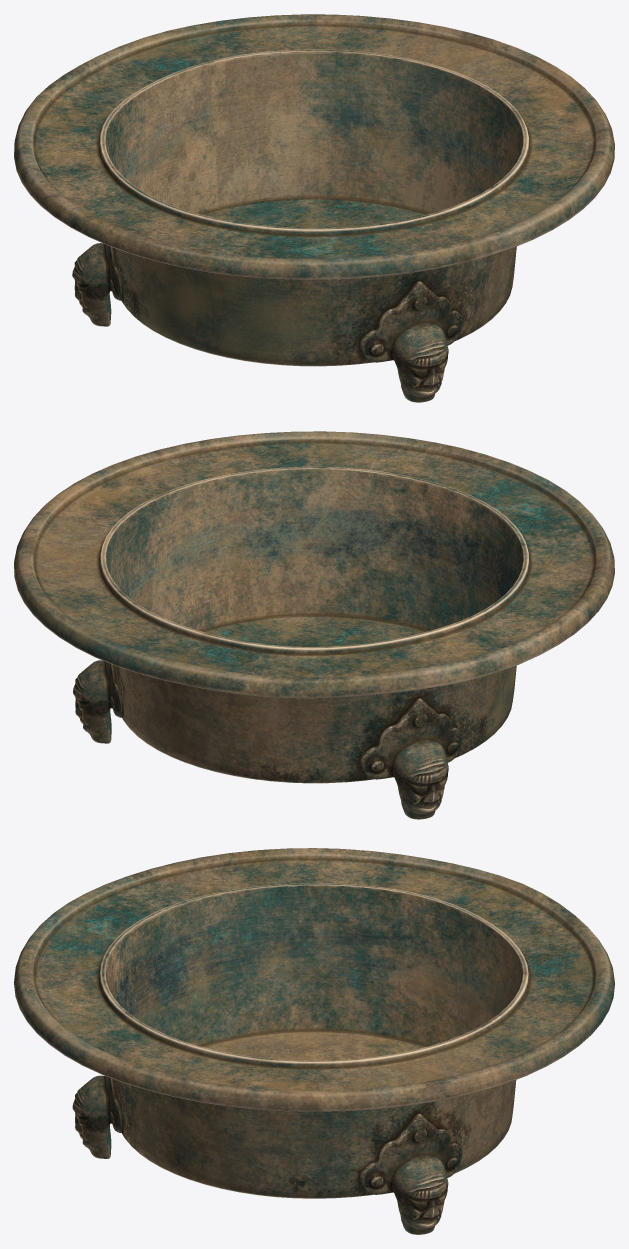
File: SM_Brazier.fbx
The picture shows the model from 3 angles, top to bottom: view 1: azimuth 30°, elevation 25°; view 2: azimuth 150°, elevation 25°; view 3: azimuth 270°, elevation 25°; orthographic projection.
Visible parts, largest first — view 1: SM_Brazier; view 2: SM_Brazier; view 3: SM_Brazier.
Boxes of the visible parts, box(x1,y1,x2,y2) form: SM_Brazier: box(14, 14, 614, 402); SM_Brazier: box(14, 431, 614, 819); SM_Brazier: box(14, 848, 614, 1234).
Bounding box in the file's own units: 52.14 × 17.58 × 52.17.
